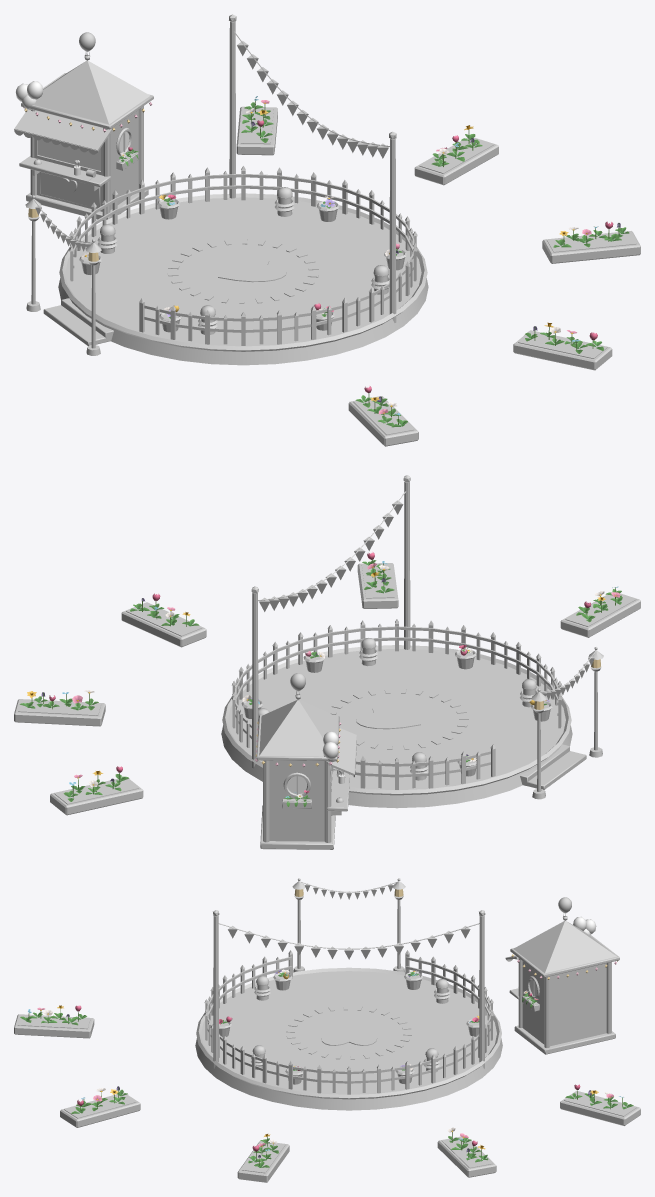
File: zon_balloon.glb
The picture shows the model from 3 angles, top to bottom: view 1: azimuth 30°, elevation 25°; view 2: azimuth 150°, elevation 25°; view 3: azimuth 270°, elevation 25°; orthographic projection. The views are drawn at different scales.
Parts seen in each view (by area): view 1: SM_zon_balloon_kit_balloon_x1_z0, SM_zon_balloon_vc_palette_x1_z0, SCREEN_bld_balloon_kiosk_board__0; view 2: SM_zon_balloon_kit_balloon_x1_z0, SM_zon_balloon_vc_palette_x1_z0; view 3: SM_zon_balloon_kit_balloon_x1_z0, SM_zon_balloon_vc_palette_x1_z0.
Part boxes in pixels (x1=…): SM_zon_balloon_kit_balloon_x1_z0: x1=14, y1=14, x2=640, y2=446; SM_zon_balloon_vc_palette_x1_z0: x1=80, y1=96, x2=629, y2=427; SCREEN_bld_balloon_kiosk_board__0: x1=37, y1=138, x2=100, y2=170; SM_zon_balloon_kit_balloon_x1_z0: x1=14, y1=475, x2=640, y2=849; SM_zon_balloon_vc_palette_x1_z0: x1=19, y1=552, x2=622, y2=806; SM_zon_balloon_kit_balloon_x1_z0: x1=14, y1=878, x2=640, y2=1182; SM_zon_balloon_vc_palette_x1_z0: x1=20, y1=969, x2=633, y2=1167.
Size of the model in its own units: 12.16 by 4.35 by 15.09.
